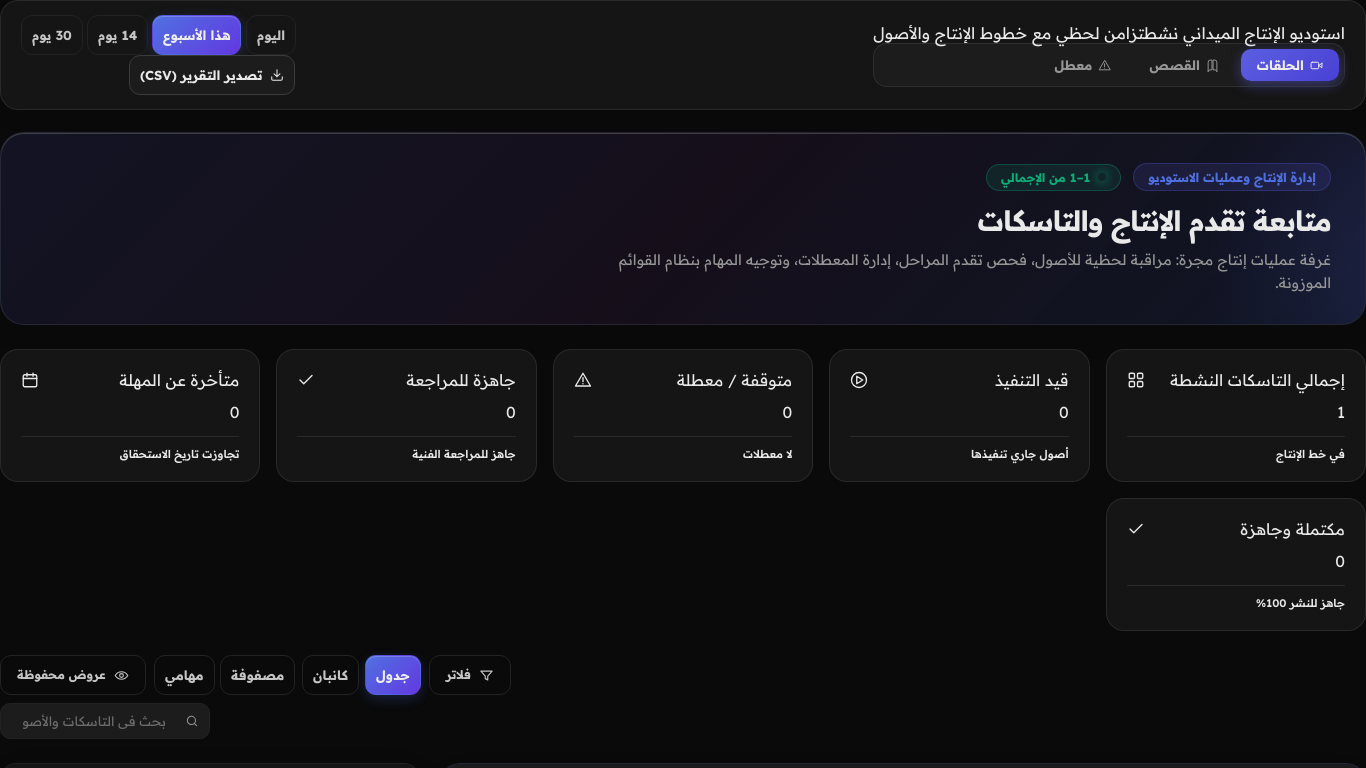
Scenario: ProductionPage › the view is written to the URL, so the link opens what was shared
Click the tab "كانبان" at (330, 675), box [302,655,359,695]
(page scrolled)
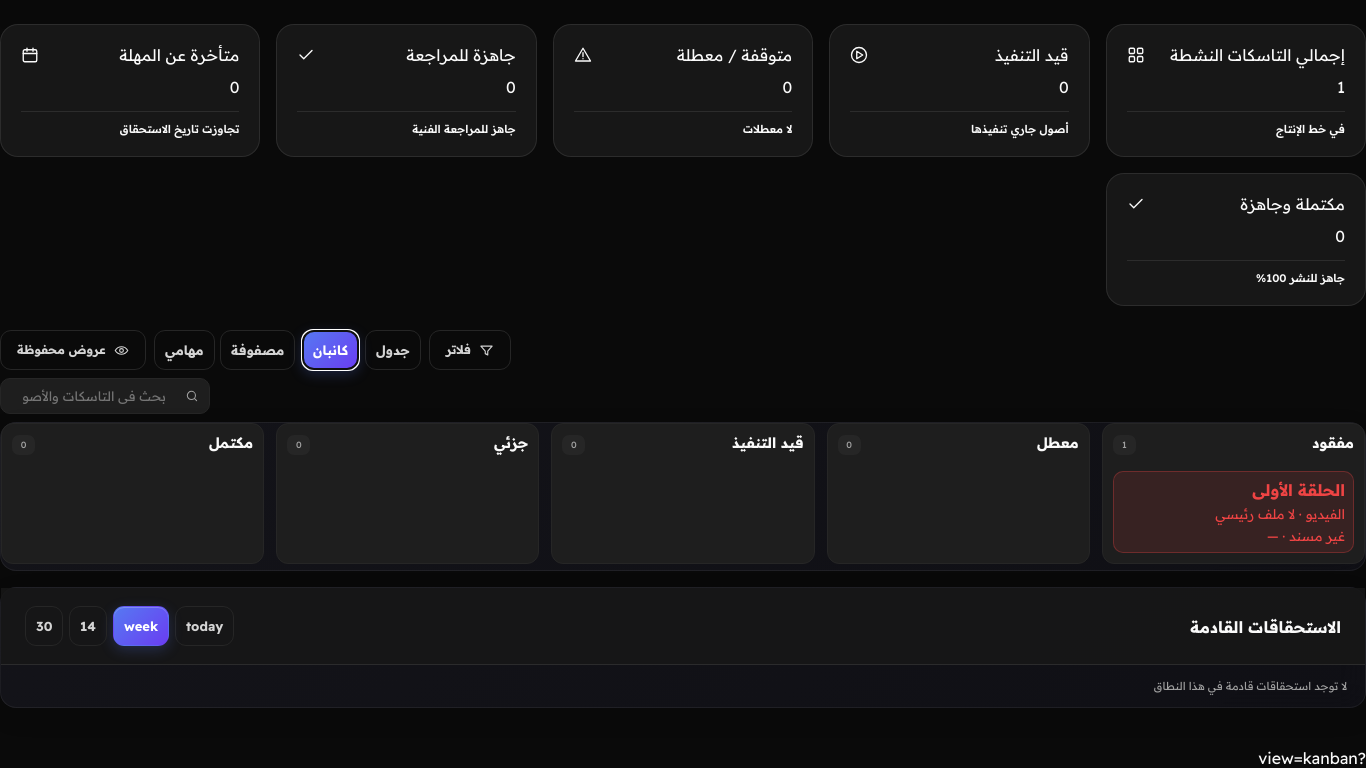
Check: the text with test id "probe" shows "view=kanban", box [1258,748,1365,767]
